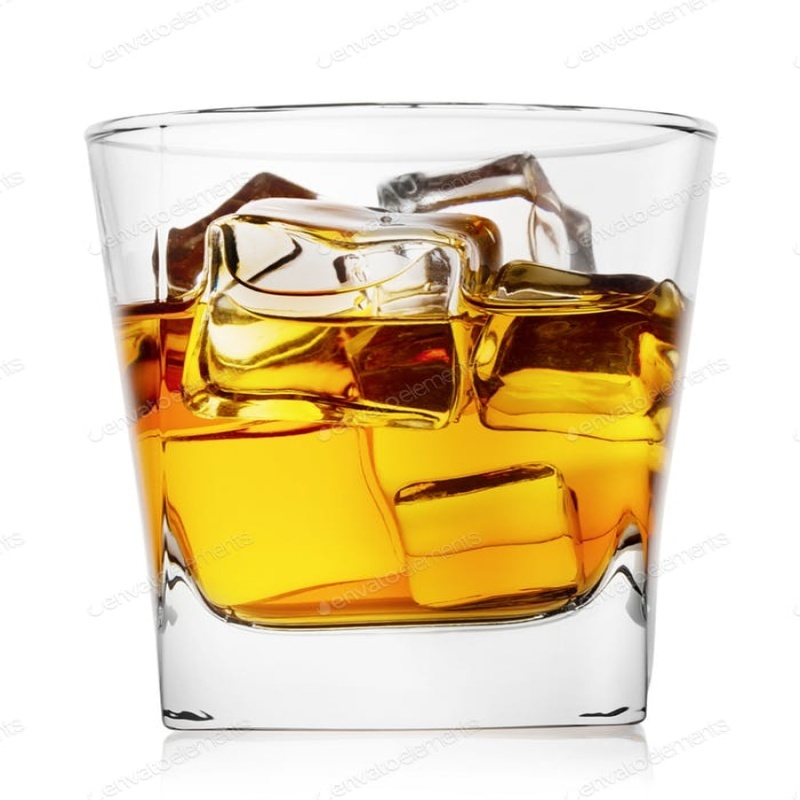whiskey: (80, 102, 654, 716)
